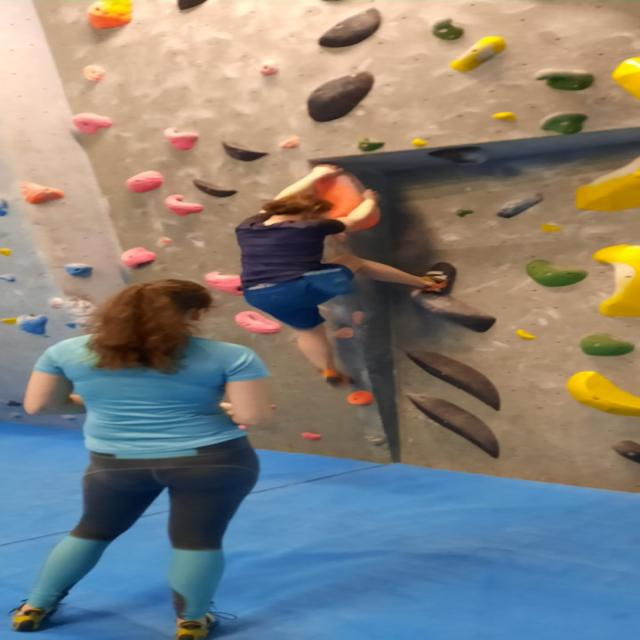Jug: (538, 65, 598, 93), (540, 111, 590, 139), (16, 181, 65, 209), (124, 169, 166, 195), (165, 195, 210, 219), (69, 112, 113, 136), (429, 15, 467, 42), (164, 128, 205, 152), (13, 316, 50, 339)
Sloper: (399, 344, 513, 416), (394, 393, 508, 459), (294, 164, 392, 234), (591, 241, 640, 320), (565, 366, 640, 416), (569, 169, 640, 215), (313, 8, 387, 51), (442, 32, 512, 74), (523, 258, 593, 290), (20, 368, 64, 418), (212, 138, 283, 168), (578, 330, 636, 360), (83, 0, 136, 32), (236, 307, 285, 338), (612, 54, 640, 107), (183, 178, 241, 198), (118, 245, 159, 268)
